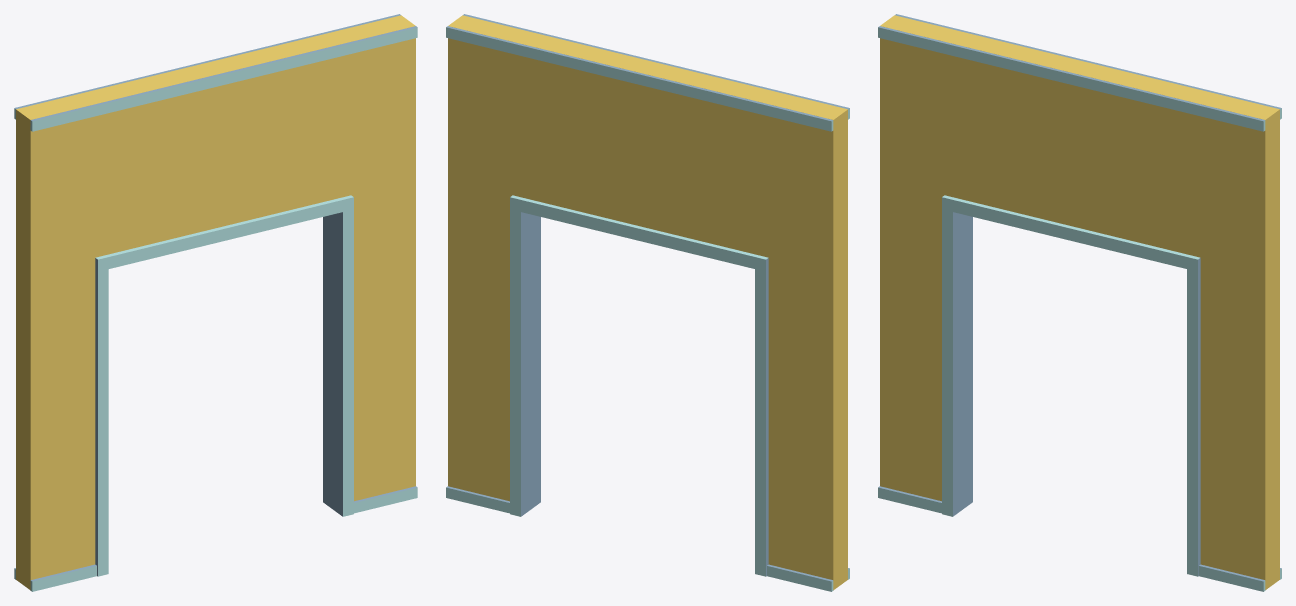
The model's file is Wall Door Large.fbx.
3 views of the same model, side by side, from view 1: azimuth 30°, elevation 25°; view 2: azimuth 150°, elevation 25°; view 3: azimuth 330°, elevation 25° (orthographic).
Parts seen in each view (by area): view 1: Wall Door Large; view 2: Wall Door Large; view 3: Wall Door Large.
Boxes of the visible parts, x1=… form: Wall Door Large: x1=14, y1=14, x2=417, y2=591; Wall Door Large: x1=446, y1=14, x2=849, y2=591; Wall Door Large: x1=878, y1=14, x2=1281, y2=591.
Size of the model in its own units: 600 by 700 by 53.84.
